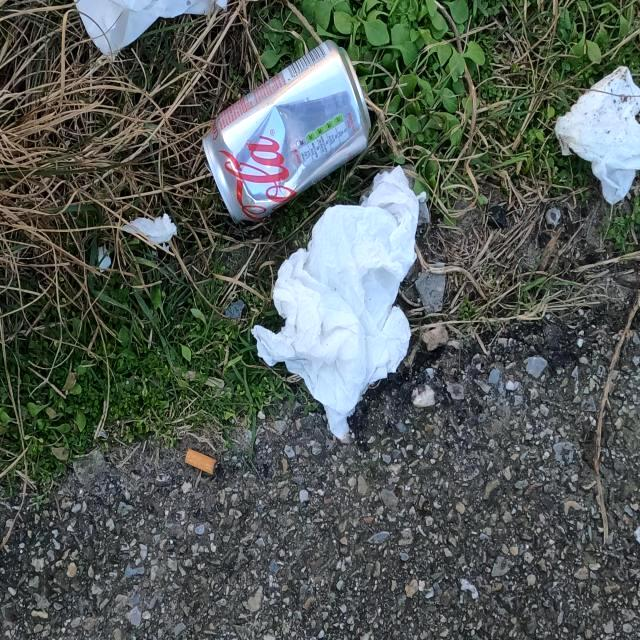Metal: (200, 36, 372, 230)
Paper: (251, 160, 429, 448), (552, 61, 640, 208)
